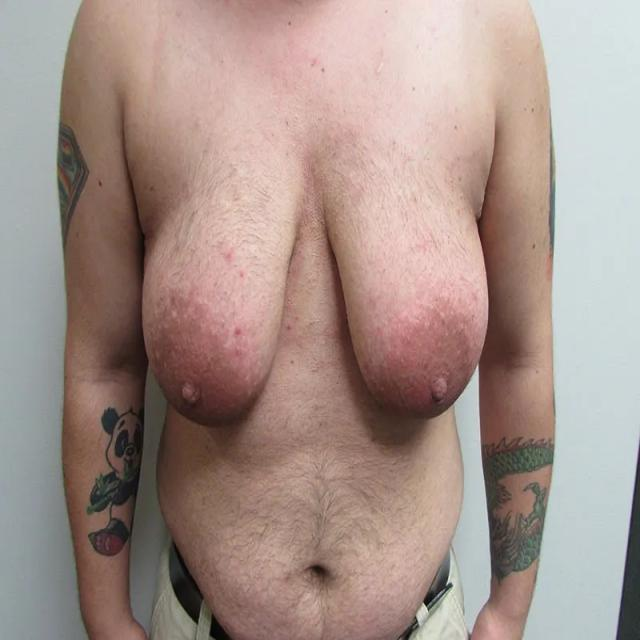Seno ileso: (316, 119, 496, 438), (136, 120, 310, 446)
